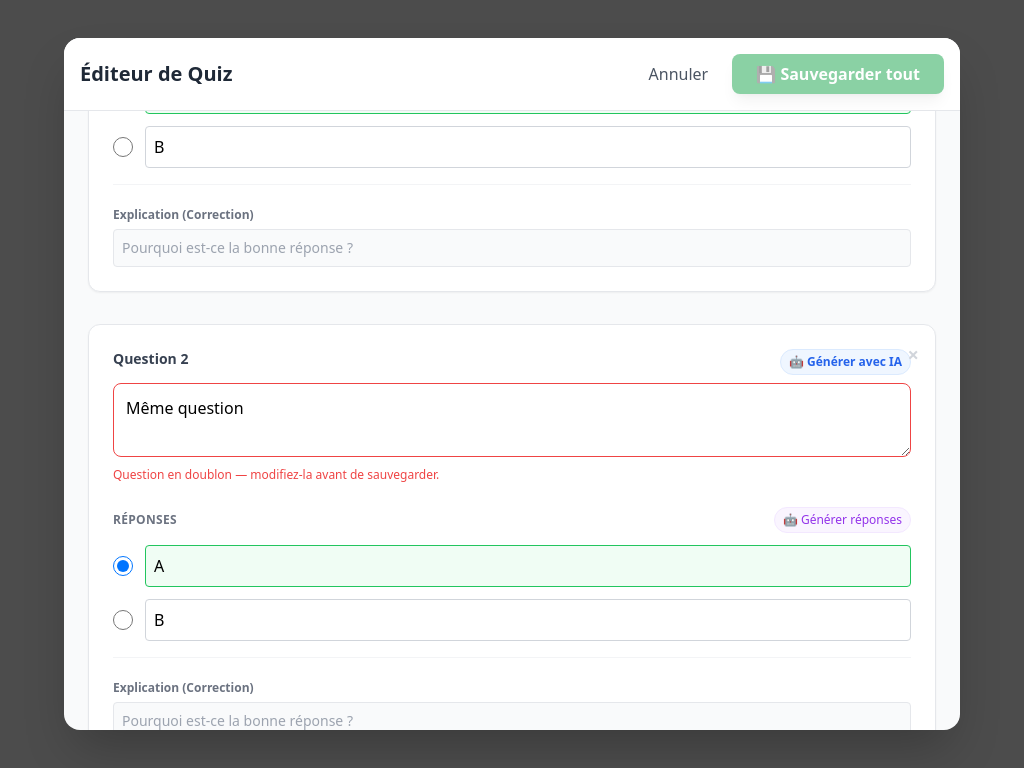
QuizEditModal — dédoublonnage › réactive le bouton Sauvegarder après correction
(page scrolled)
Replace the text in the text box with "Question différente" at coordinates (512, 420), box left=113, top=383, right=911, bottom=457
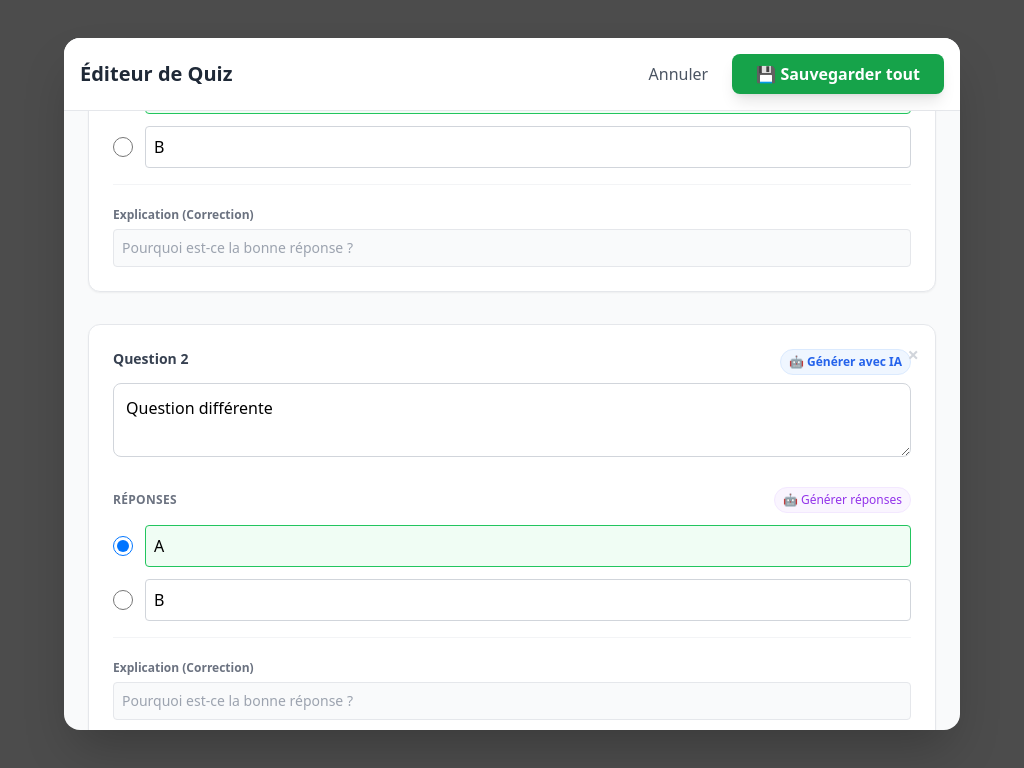
Expected: the button "💾 Sauvegarder tout" is enabled, left=732, top=54, right=944, bottom=94
